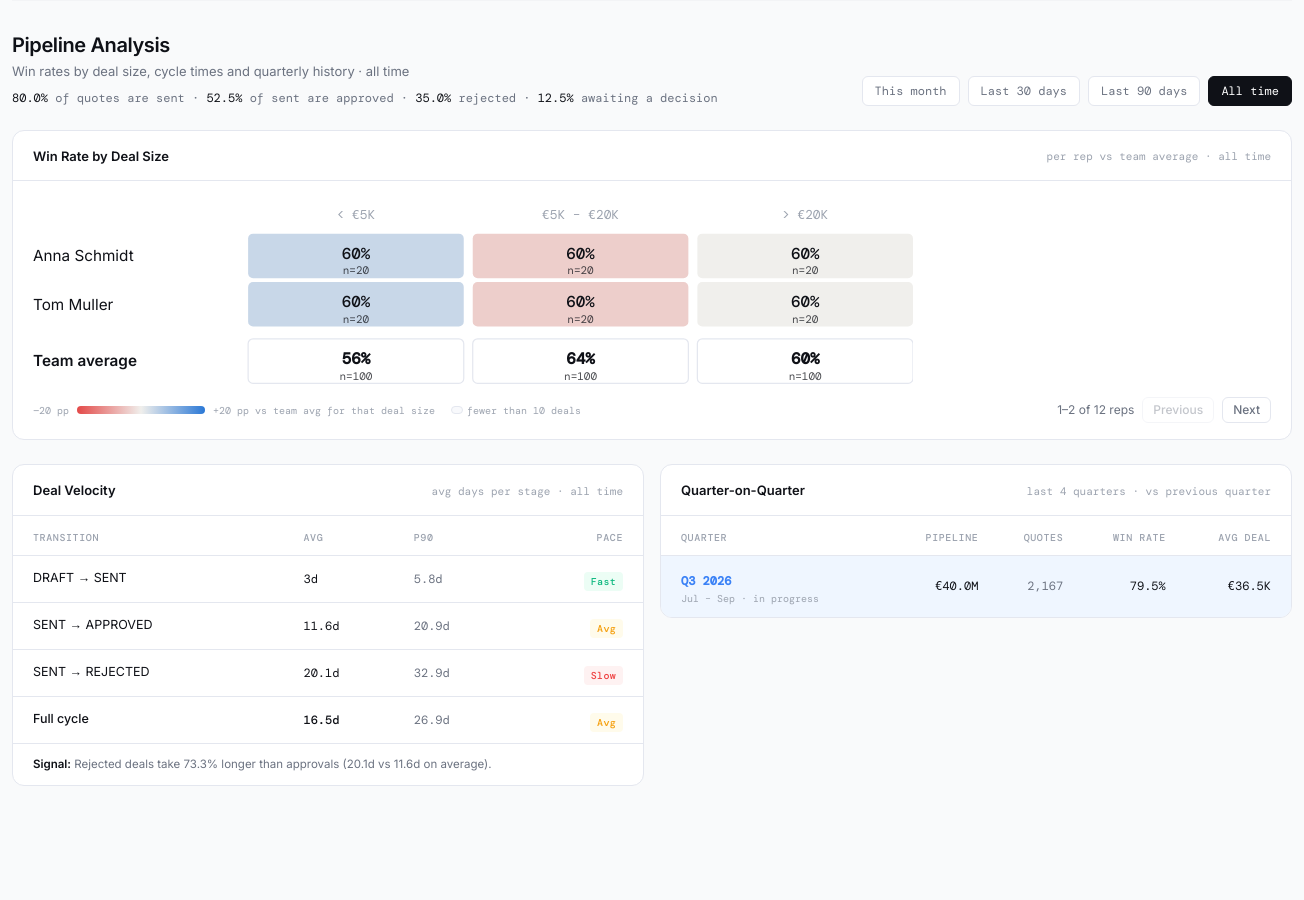
Test: PipelineAnalysis › has its own period selector that refetches the range-driven panels
Expected: the text "11.6d" is shown, [292, 602, 402, 649]
Click the button "Last 90 days" at (1144, 90), box [1088, 76, 1200, 106]
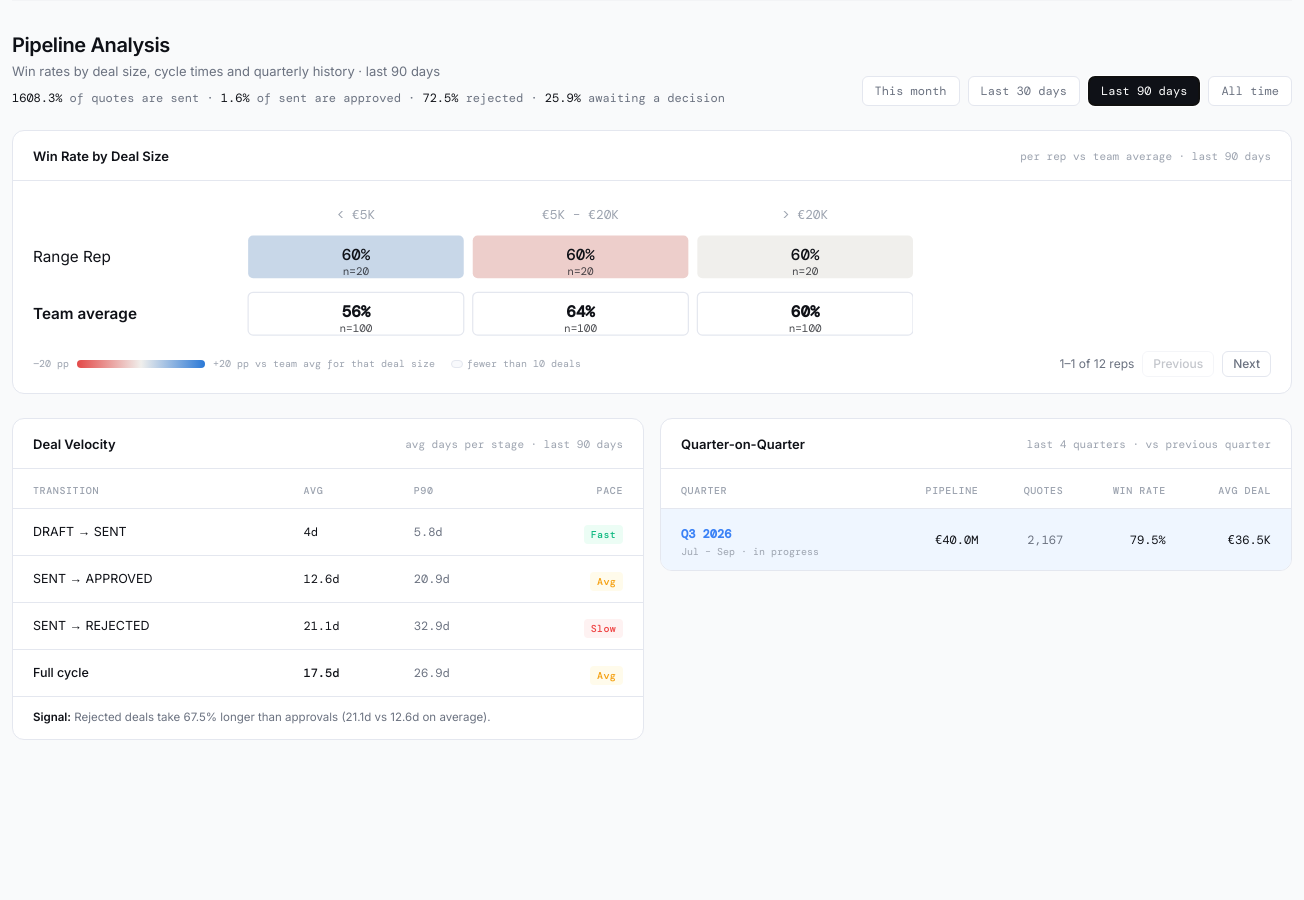
Expected: the text "Win rates by deal size, cycle times and quarterly history · last 90 days" is shown, [12, 63, 440, 79]
Expected: the text "12.6d" is shown, [292, 556, 402, 603]
Expected: the text "1.6%" is shown, [221, 90, 250, 106]
